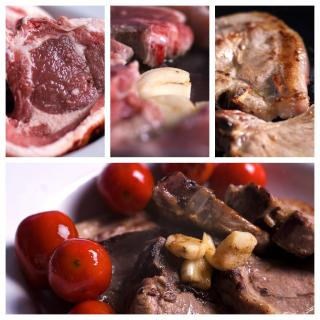tomato: (39, 242, 116, 306), (12, 209, 77, 282), (94, 160, 152, 214), (215, 161, 268, 199), (160, 161, 214, 184), (66, 298, 116, 315)
